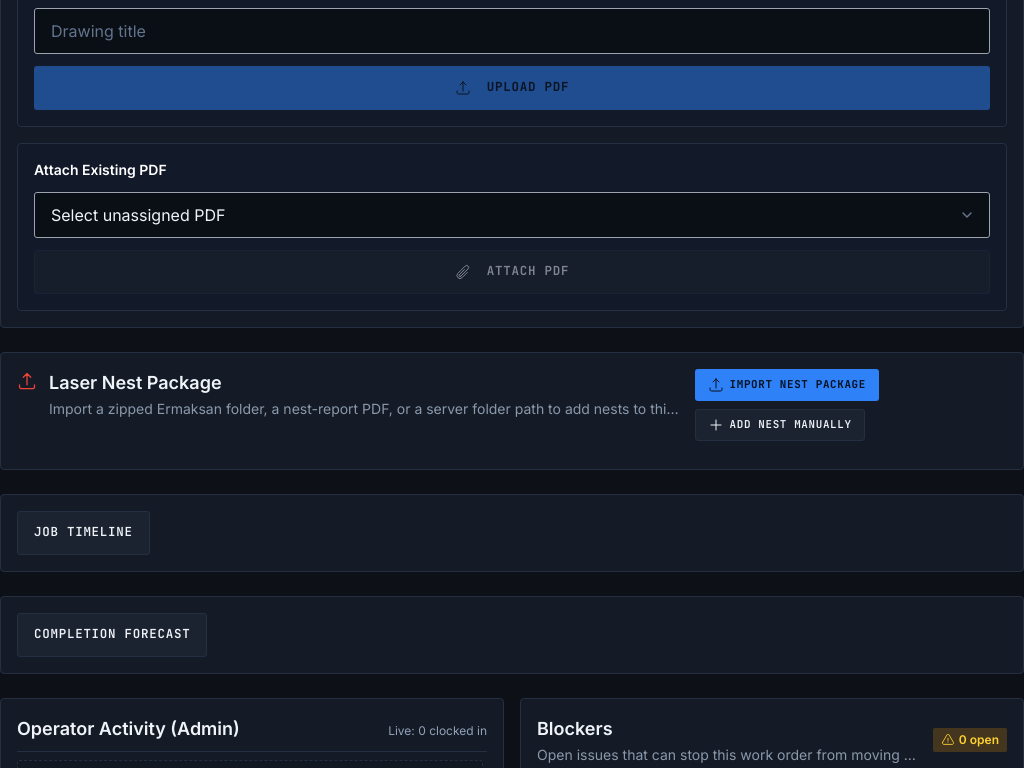
Test: WorkOrderDetail — standalone (part-less) laser nest WO › opens the import wizard in PARENTED mode (targets this WO, no standalone copy)
(page scrolled)
Click the button "Import nest package". click: (787, 384)
box: [695,368,879,400]
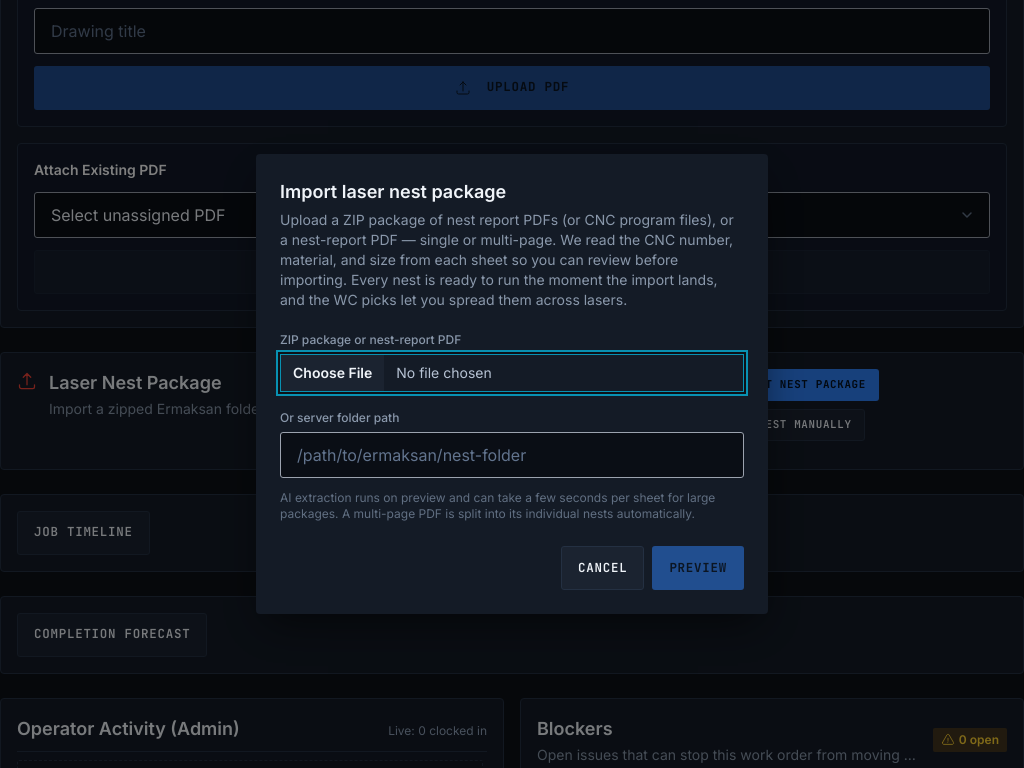
Check: the heading "Import laser nest package" is shown, box [280,181,506,202]
